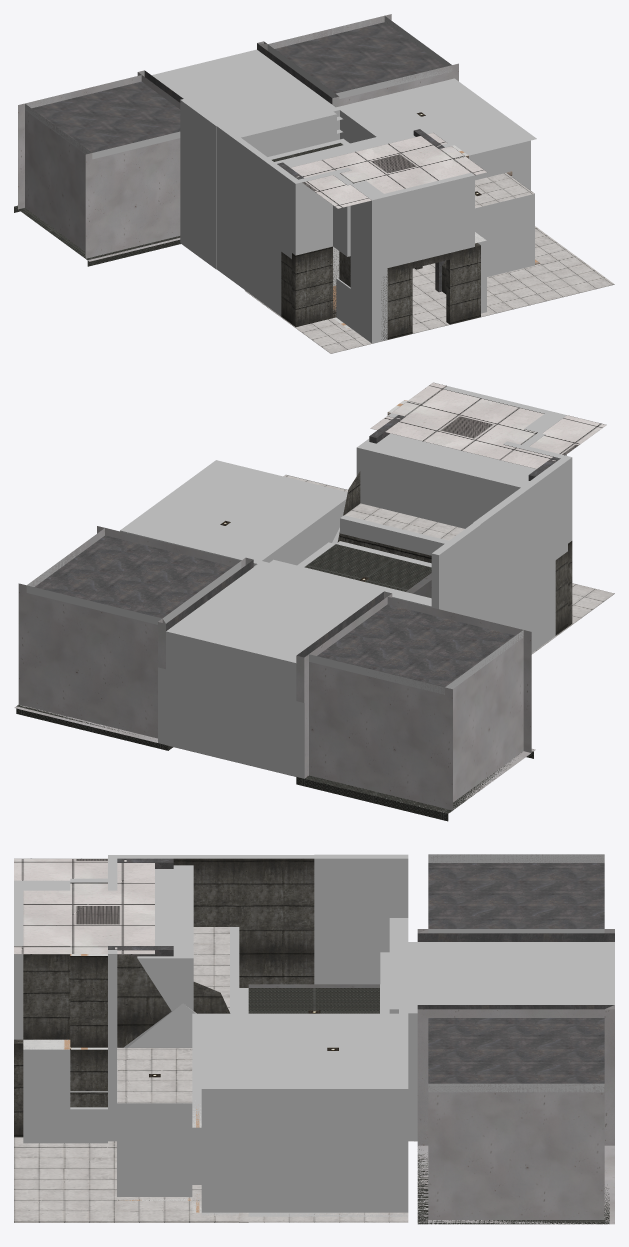
The model's file is HC_ckpt1.gltf.
3 renders of one model, top to bottom at view 1: azimuth 30°, elevation 25°; view 2: azimuth 150°, elevation 25°; view 3: azimuth 270°, elevation 25°, orthographic. The views are drawn at different scales.
Parts seen in each view (by area): view 1: HC_ckpt1.001; view 2: HC_ckpt1.001; view 3: HC_ckpt1.001.
Part boxes in pixels (x1,y1,x2,y2): HC_ckpt1.001: (14,14,614,353); HC_ckpt1.001: (14,382,614,821); HC_ckpt1.001: (14,854,614,1224).
Bounding box in the file's own units: 19.2 × 7.36 × 20.48.
